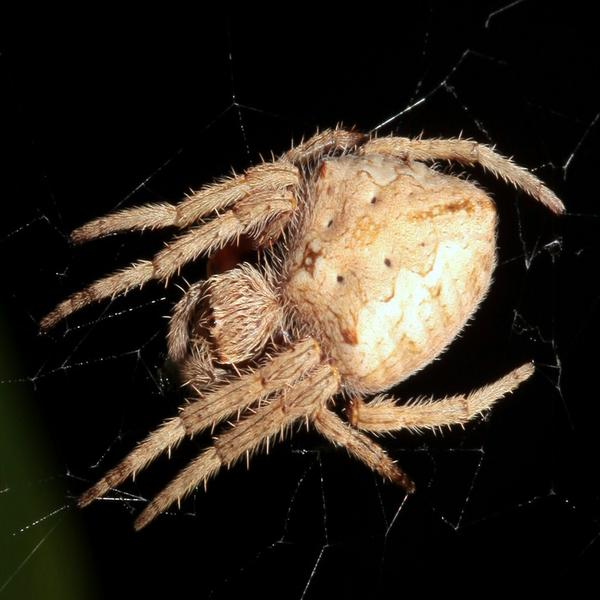Garden Orb Weaver Spider: (78, 129, 559, 504)
